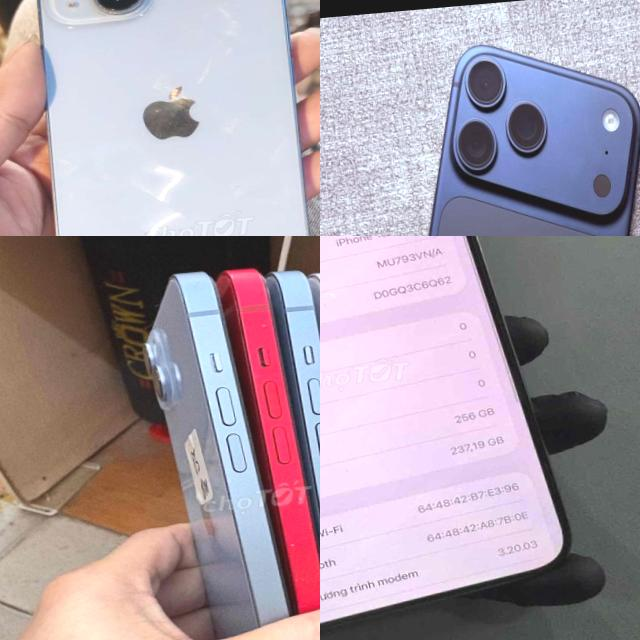gen_14: (121, 268, 320, 640), (20, 0, 320, 236)
gen_15: (320, 236, 595, 640)
gen_17: (345, 31, 640, 236)
